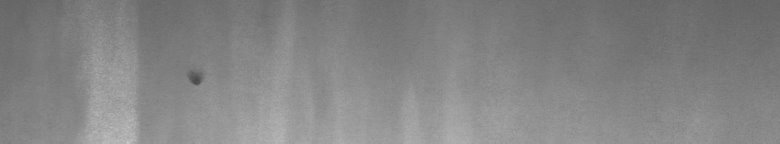fi: (184, 68, 204, 92)
